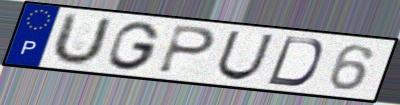6: (327, 43, 376, 93)
D: (264, 34, 326, 88)
G: (106, 20, 163, 72)
P: (155, 23, 219, 76)
U: (46, 11, 115, 67), (213, 29, 277, 82)
